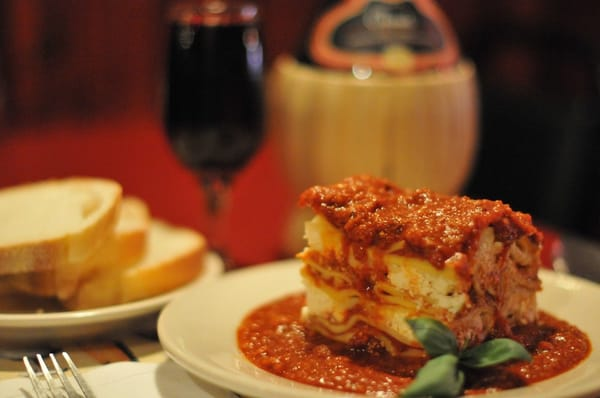soup: (289, 173, 595, 390)
